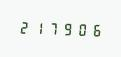nine: (60, 19, 73, 37)
one: (31, 19, 44, 36)
seven: (46, 19, 59, 36)
six: (88, 20, 101, 38)
two: (17, 18, 30, 35)
zero: (74, 20, 87, 37)
